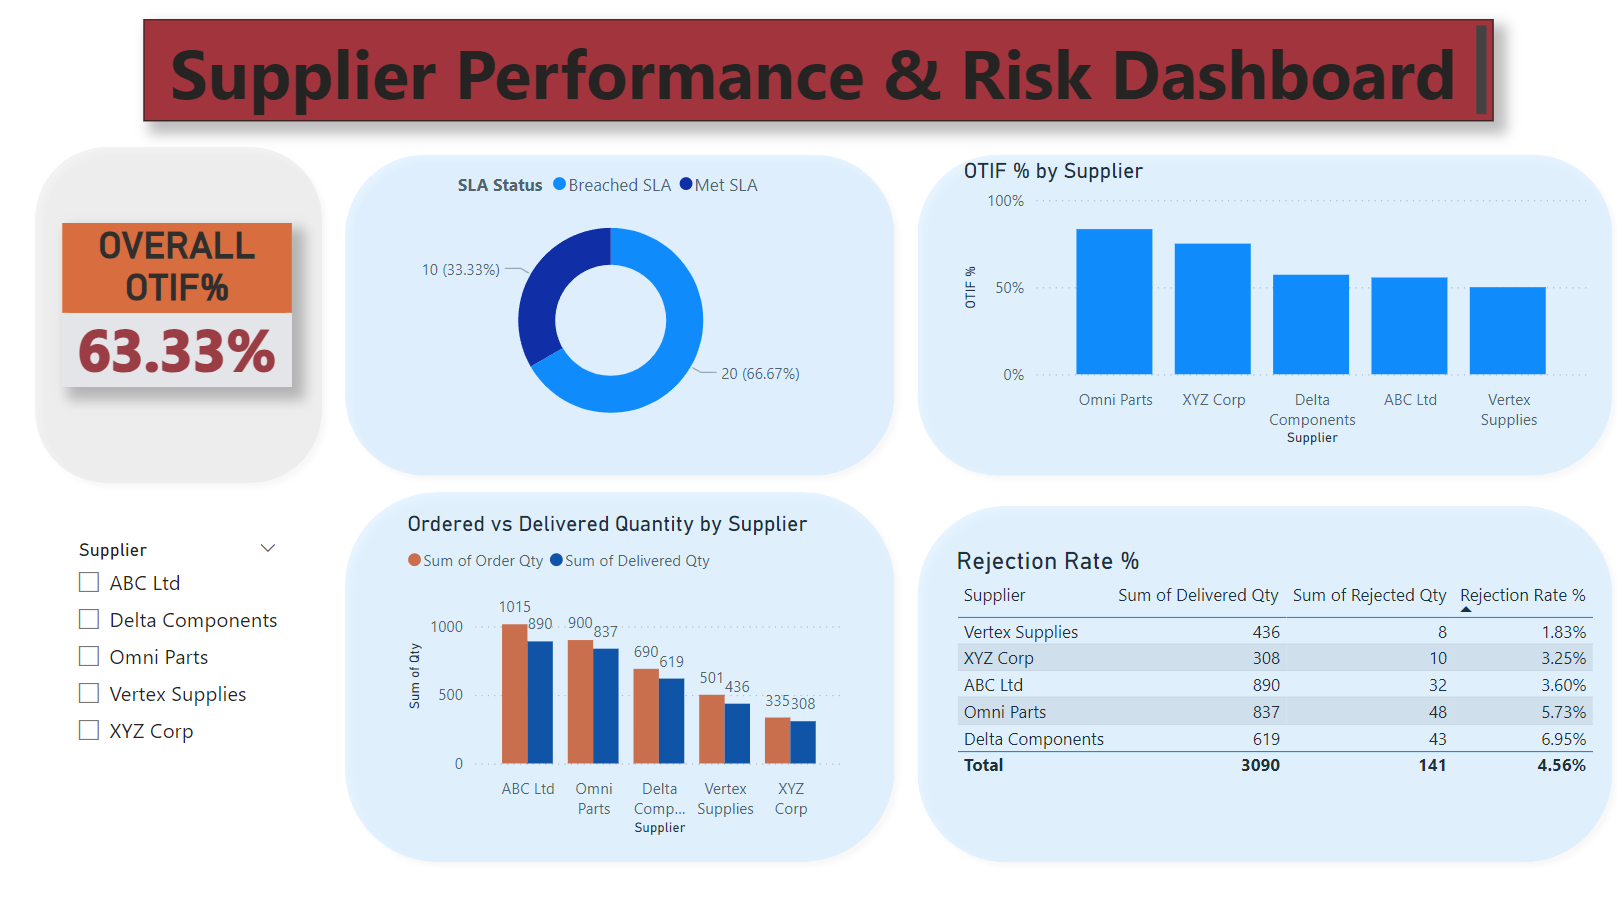

The dashboard page shown, as its layout file describes it:
{"tool":"powerbi","page":{"name":"Page 1","canvas":[1280,720],"ordinal":0},"visuals":[{"type":"clusteredColumnChart","fields":{"Category":["Sheet1.Supplier"],"Y":["Sheet1.OTIF %"]},"box":[757.5,129,499.5,230.5],"z":0},{"type":"clusteredColumnChart","title":"Ordered vs Delivered Quantity by Supplier","fields":{"Category":["Sheet1.Supplier"],"Y":["Sum(Sheet1.Order Qty)","Sum(Sheet1.Delivered Qty)"]},"box":[320.9,405.8,352.3,259.3],"z":1000},{"type":"card","title":"OVERALL OTIF%","fields":{"Values":["Sheet1.Overall OTIF %"]},"box":[55.8,180.2,180.2,129.1],"z":2000},{"type":"donutChart","fields":{"Category":["Sheet1.SLA Status"],"Y":["CountNonNull(Sheet1.PO No)"]},"box":[255.2,129,462.4,225],"z":3000},{"type":"tableEx","title":"Rejection Rate %","fields":{"Values":["Sheet1.Supplier","Sum(Sheet1.Delivered Qty)","Sum(Sheet1.Rejected Qty)","Sheet1.Rejection Rate %"]},"box":[751.2,433.7,511.6,209.3],"z":4000},{"type":"shape","box":[717.4,117.4,562.8,269.8],"z":5000},{"type":"shape","box":[268.6,382.6,448.8,308.1],"z":6000},{"type":"shape","box":[268.6,117.4,448.8,269.8],"z":7000},{"type":"shape","box":[717.4,393,562.8,297.7],"z":8000},{"type":"shape","box":[25.6,111.6,243,281.4],"z":9000},{"type":"textbox","box":[119.8,20.9,1058.1,80.2],"z":10000},{"type":"slicer","fields":{"Values":["Sheet1.Supplier"]},"box":[55.8,423.3,180.2,205.8],"z":12000}]}

Visuals, with their boxes in screenshot pixels (x1, y1, x2, y2), scaled from the page's 1280x720 canvas onto the 1617x902 screenshot:
clusteredColumnChart - Sheet1.Supplier x Sheet1.OTIF %: x1=957, y1=162, x2=1588, y2=450
"Ordered vs Delivered Quantity by Supplier" clusteredColumnChart: x1=405, y1=508, x2=850, y2=833
"OVERALL OTIF%" card: x1=70, y1=226, x2=298, y2=387
donutChart - Sheet1.SLA Status x CountNonNull(Sheet1.PO No): x1=322, y1=162, x2=907, y2=443
"Rejection Rate %" tableEx: x1=949, y1=543, x2=1595, y2=806
shape: x1=906, y1=147, x2=1616, y2=485
shape: x1=339, y1=479, x2=906, y2=865
shape: x1=339, y1=147, x2=906, y2=485
shape: x1=906, y1=492, x2=1616, y2=865
shape: x1=32, y1=140, x2=339, y2=492
textbox: x1=151, y1=26, x2=1488, y2=127
slicer - Sheet1.Supplier: x1=70, y1=530, x2=298, y2=788
